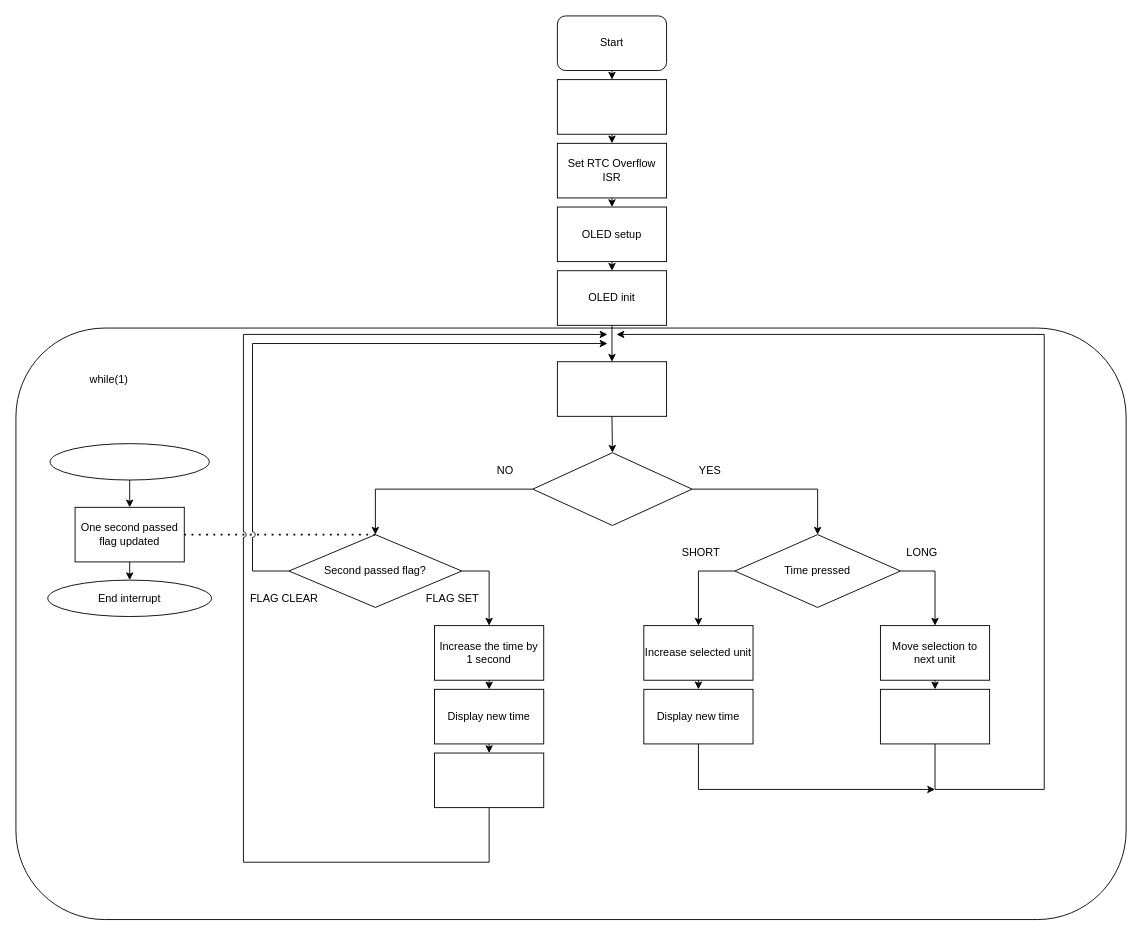
Some shapes in this 1142 by 935 pixel diagram are drawn without their labels. The centre of each missing label's shape, as x and y in pixels:
Button check: [611,388]
Clear second passed flag: [489,780]
Display new selection: [935,716]
Pressed?: [612,489]
RTC OVF interrupt: [129,461]
System Initialize: [611,106]
